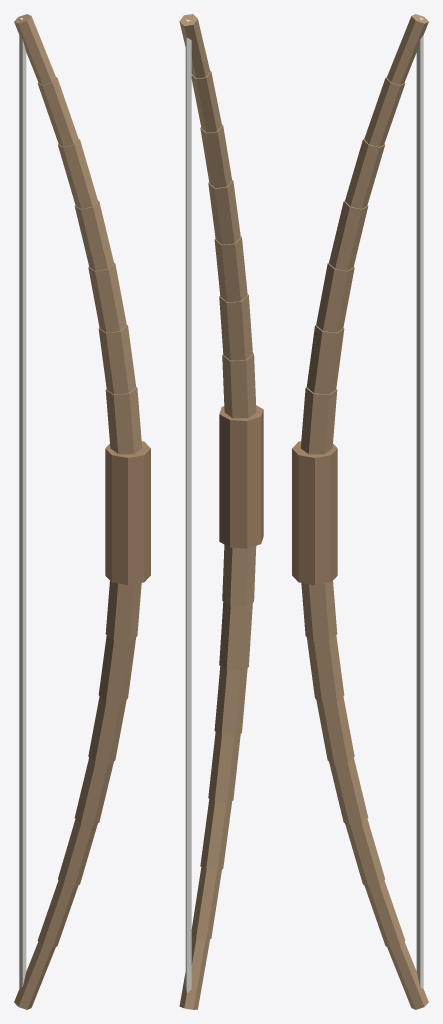
The model's file is Bow.gltf.
3 views of the same model, side by side, from view 1: azimuth 90°, elevation 25°; view 2: azimuth 150°, elevation 25°; view 3: azimuth 270°, elevation 25° (orthographic).
Visible parts, largest first — view 1: Bow; view 2: Bow; view 3: Bow.
Boxes of the visible parts, bbox=[...] form: Bow: bbox=[14, 14, 150, 1009]; Bow: bbox=[179, 14, 263, 1009]; Bow: bbox=[292, 14, 428, 1009].
Bounding box in the file's own units: 0.052 × 1.25 × 0.156.
